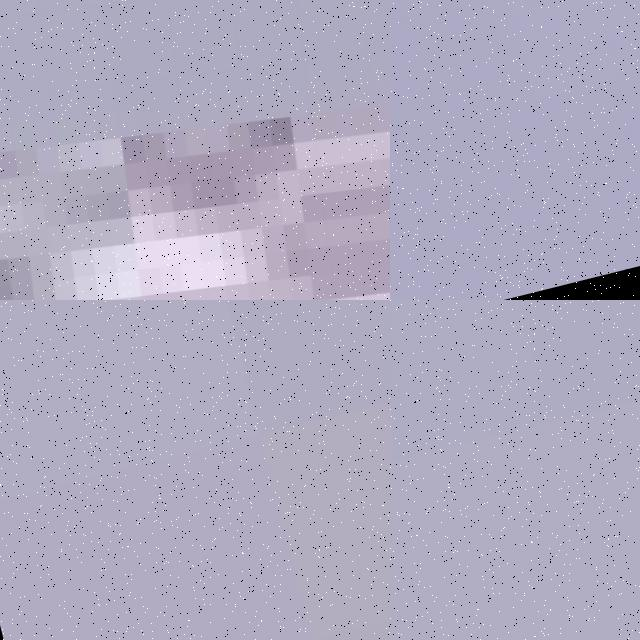drone: (0, 0, 390, 300)
